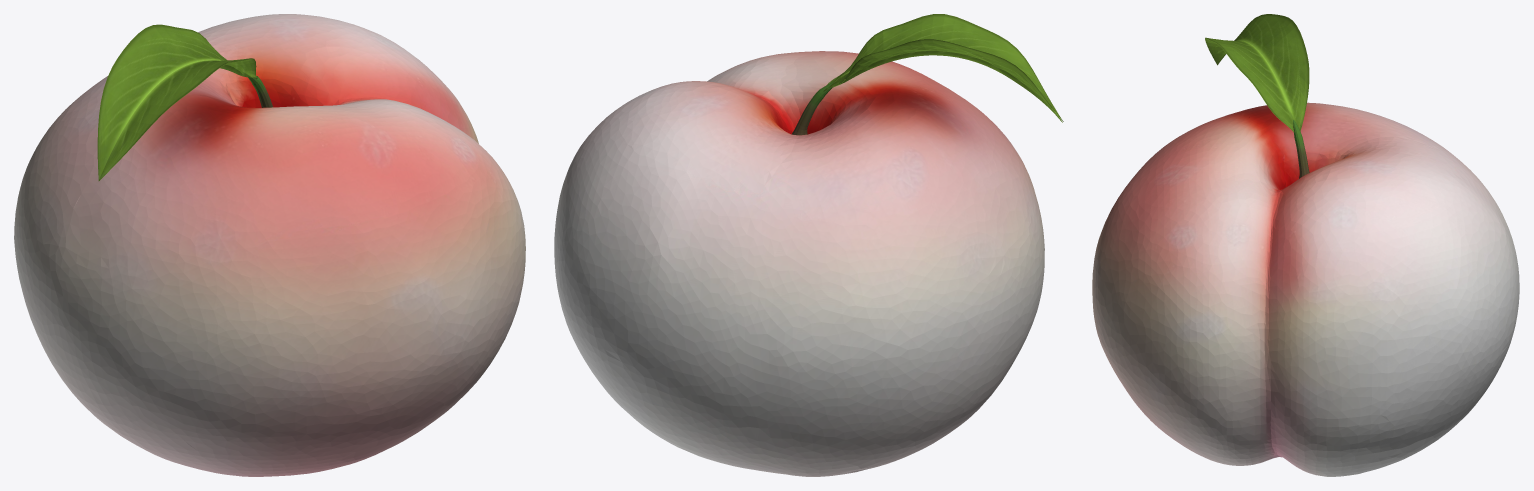
File: peachy.glb
The picture shows the model from 3 angles, left to right: view 1: azimuth 30°, elevation 25°; view 2: azimuth 150°, elevation 25°; view 3: azimuth 270°, elevation 25°; orthographic projection. The views are drawn at different scales.
Size of the model in its own units: 99.77 by 95.8 by 100.
1 material, 1 textured.
